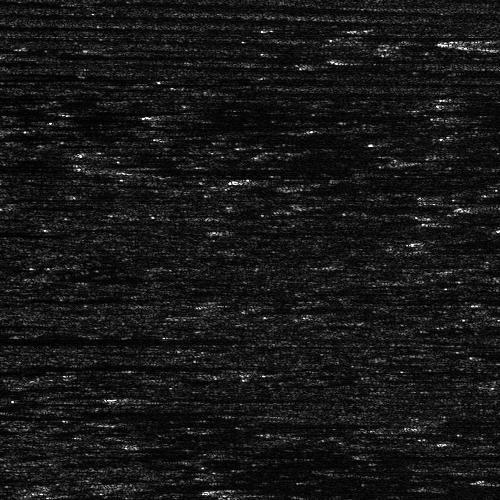object: (50, 161, 185, 176), (50, 477, 217, 488), (102, 394, 165, 401), (439, 476, 500, 483), (0, 50, 56, 57), (340, 453, 393, 458), (454, 38, 500, 43)
shadow: (118, 161, 326, 176), (134, 477, 351, 488), (0, 334, 192, 345), (133, 394, 276, 401), (15, 50, 150, 57), (0, 73, 146, 78), (367, 453, 444, 458), (481, 476, 500, 483), (481, 38, 500, 43), (0, 227, 17, 232)
